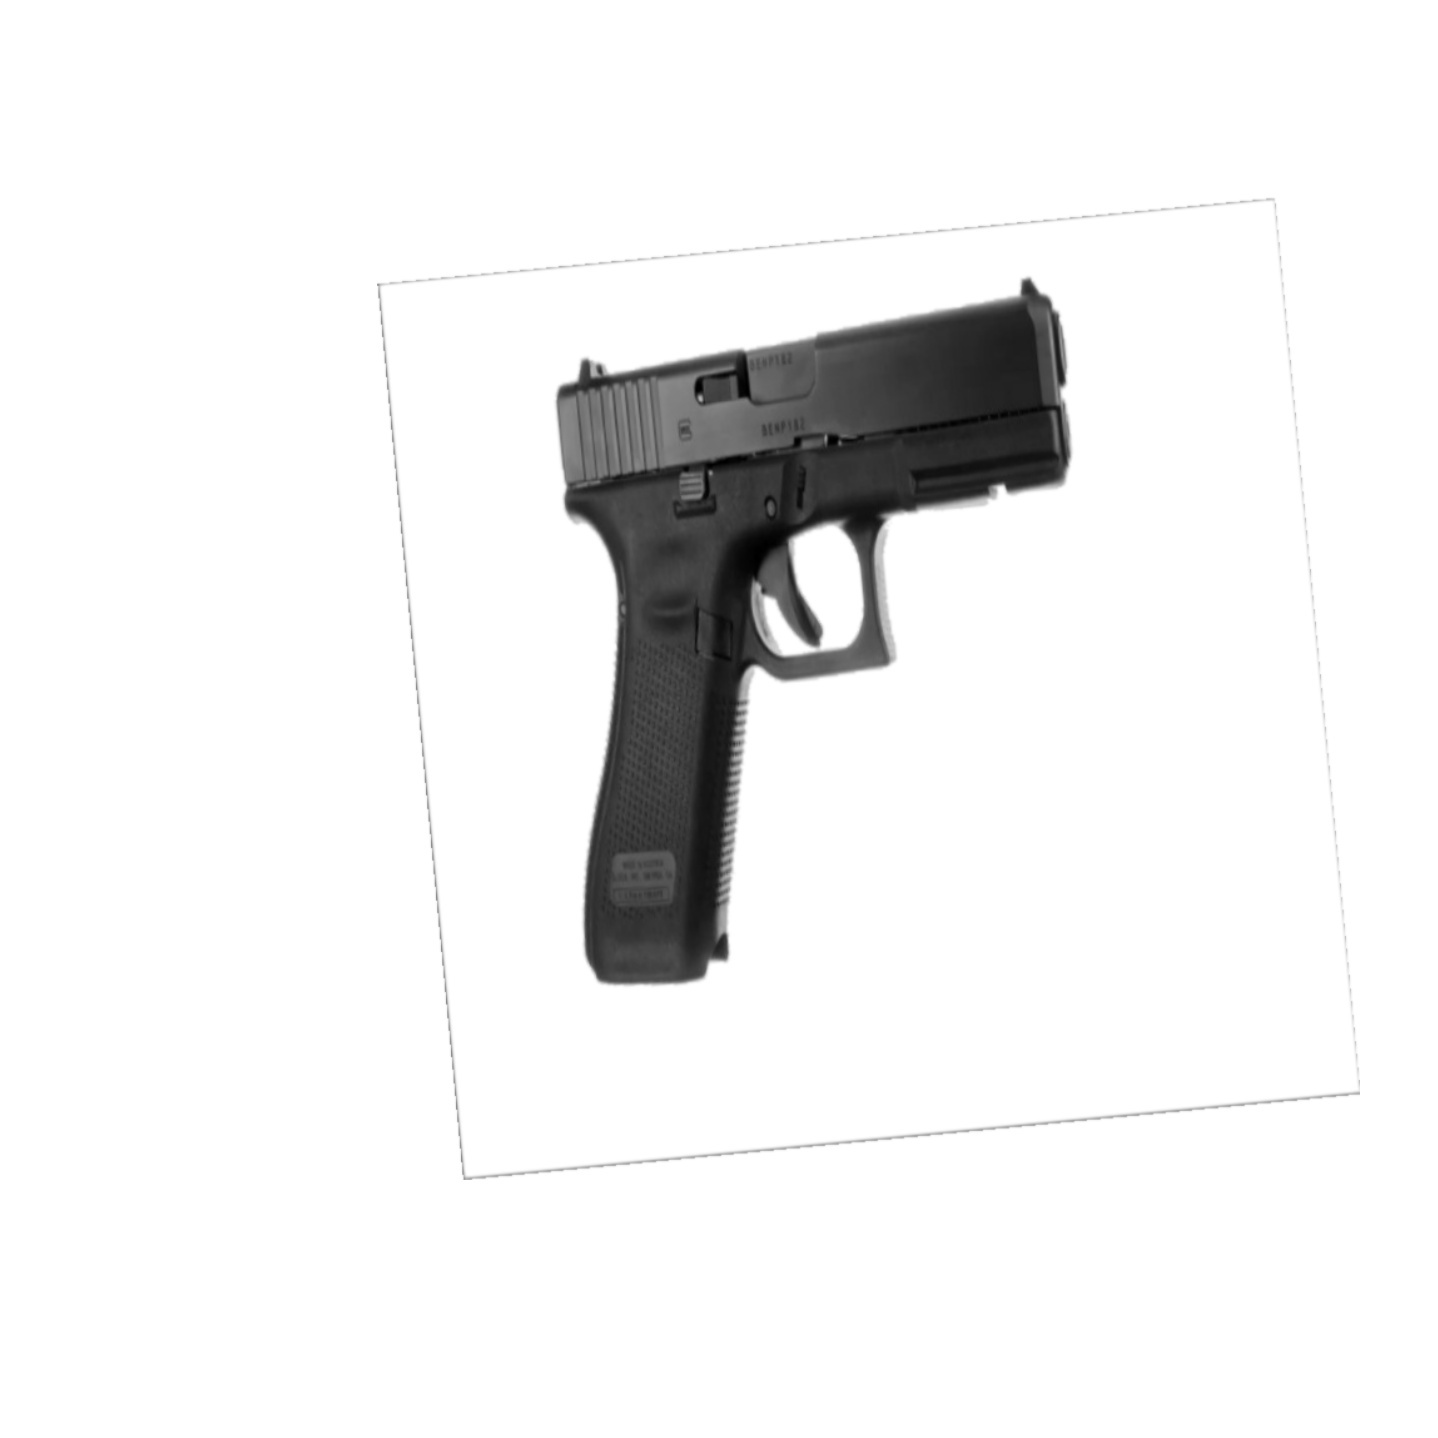gun: (557, 283, 1076, 982)
